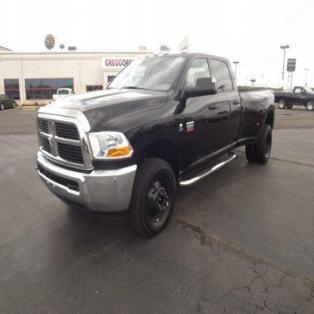Auto: (27, 37, 282, 236)
